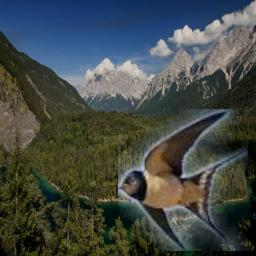Swallow: (118, 109, 248, 251)
